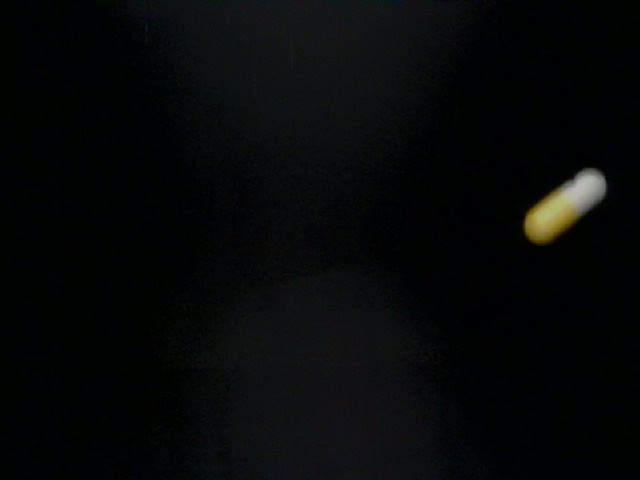YHLJ: (227, 412, 321, 480)
